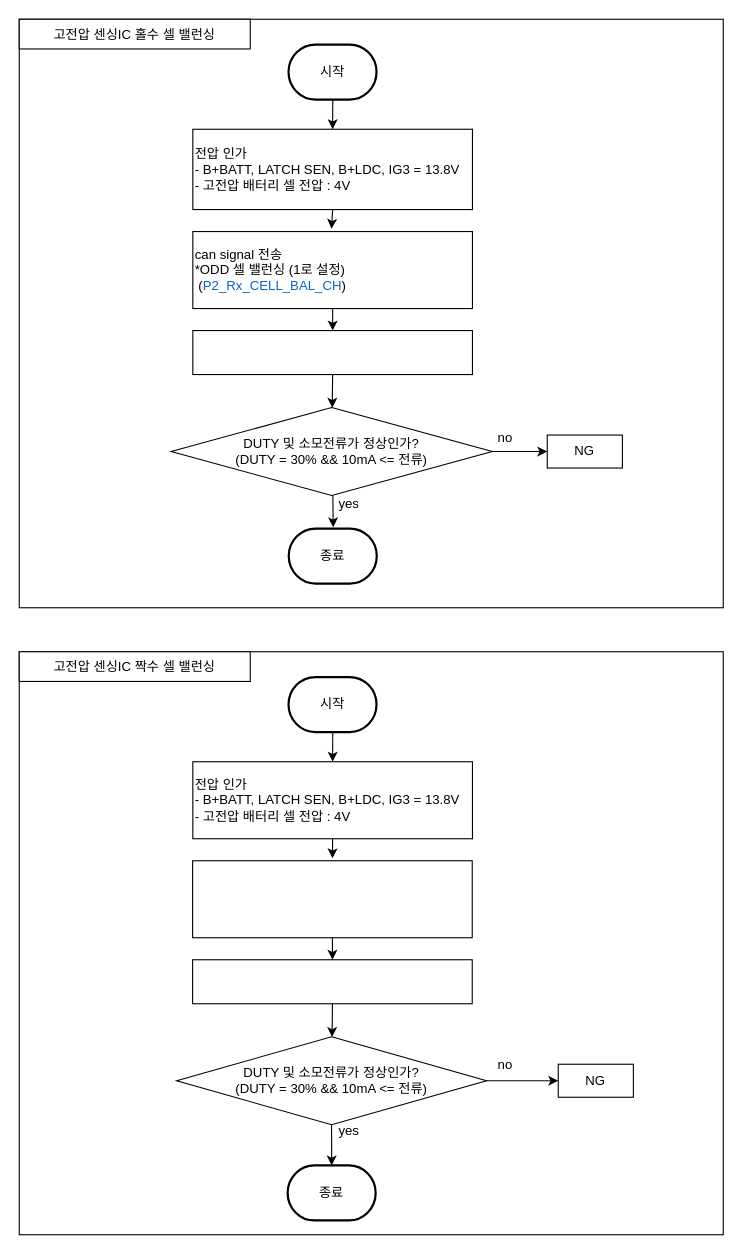
The diagram is 743 pixels wide and 1254 high, and some of its shapes have lost their labels. Each missing label, with the centre of its shape:
"can signal 전송 *EVEN 셀 밸런싱 (2로 설정) ( P2_Rx_CELL_BAL_CH )" goes at point 332,899.
"EVEN 채널의 DUTY와 전류 확인" goes at point 332,981.
"ODD 채널의 DUTY와 전류 확인" goes at point 332,352.
